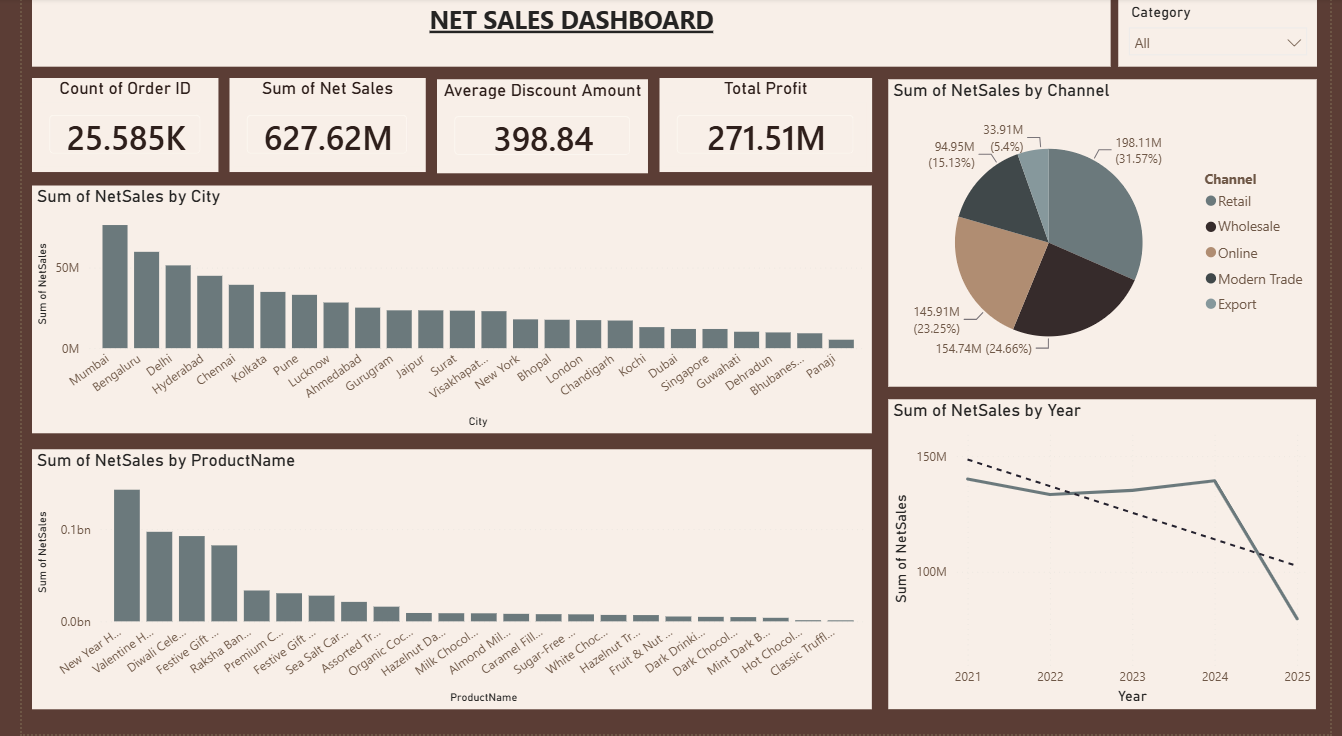

This screenshot's page, from the dashboard's own definition file:
{"tool":"powerbi","page":{"name":"Net Sales","canvas":[1280,720],"ordinal":8},"visuals":[{"type":"textbox","box":[9.8,0,1055.3,67.3],"z":0},{"type":"cardVisual","title":"Count of Order ID","fields":{"Data":["Count(FactSales.OrderID)"]},"box":[9.8,78.3,182.2,91.7],"z":1000},{"type":"cardVisual","title":"Sum of Net Sales","fields":{"Data":["Sum(FactSales.NetSales)"]},"box":[203,78.3,192,91.7],"z":2000},{"type":"cardVisual","title":"Average Discount Amount","fields":{"Data":["Avg(FactSales.DiscountAmount)"]},"box":[406,79.5,206.7,91.7],"z":3000},{"type":"slicer","fields":{"Values":["DimProduct.Category"]},"box":[1072.4,0,194.4,67.3],"z":4000},{"type":"clusteredColumnChart","fields":{"Y":["Sum(FactSales.NetSales)"],"Category":["DimGeography.City"]},"box":[9.8,183.4,821.7,242.1],"z":5000},{"type":"clusteredColumnChart","fields":{"Y":["Sum(FactSales.NetSales)"],"Category":["DimProduct.ProductName"]},"box":[9.8,441.4,821.7,254.3],"z":6000},{"type":"cardVisual","title":"Total Profit","fields":{"Data":["Sum(FactSales.Profit)"]},"box":[623.6,78.3,207.9,91.7],"z":7000},{"type":"pieChart","fields":{"Y":["Sum(FactSales.NetSales)"],"Category":["DimChannel.Channel"]},"box":[847.4,79.5,419.4,300.8],"z":8000},{"type":"lineChart","fields":{"Y":["Sum(FactSales.NetSales)"],"Category":["DimDate.Date.Variation.Date Hierarchy.Year"]},"box":[847.4,392.5,418.2,303.3],"z":9000}]}

Visuals, with their boxes in screenshot pixels (x1, y1, x2, y2), scaled from the page's 1280x720 canvas onto the 1342x736 screenshot:
textbox: locate(10, 0, 1117, 69)
"Count of Order ID" cardVisual: locate(10, 80, 201, 174)
"Sum of Net Sales" cardVisual: locate(213, 80, 414, 174)
"Average Discount Amount" cardVisual: locate(426, 81, 642, 175)
slicer - DimProduct.Category: locate(1124, 0, 1328, 69)
clusteredColumnChart - Sum(FactSales.NetSales) x DimGeography.City: locate(10, 187, 872, 435)
clusteredColumnChart - Sum(FactSales.NetSales) x DimProduct.ProductName: locate(10, 451, 872, 711)
"Total Profit" cardVisual: locate(654, 80, 872, 174)
pieChart - Sum(FactSales.NetSales) x DimChannel.Channel: locate(888, 81, 1328, 389)
lineChart - Sum(FactSales.NetSales) x DimDate.Date.Variation.Date Hierarchy.Year: locate(888, 401, 1327, 711)
